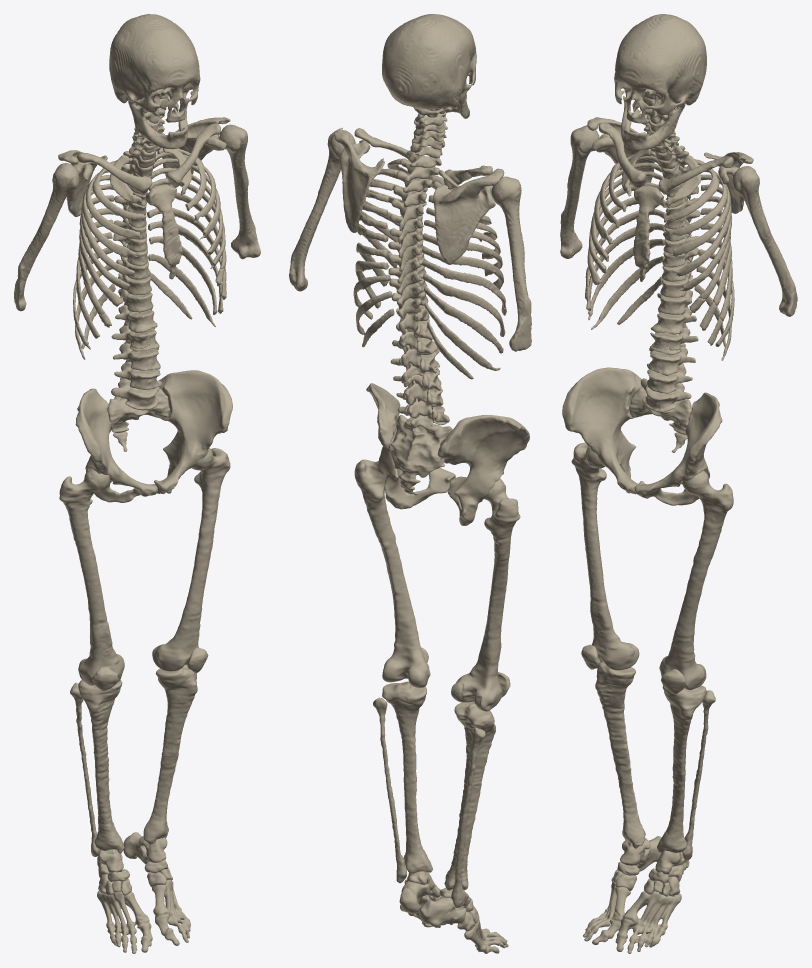
Rendered from vhf_denver_ct_adult_female.skeletal.LOD1.glb.
The picture shows the model from 3 angles, left to right: view 1: azimuth 30°, elevation 25°; view 2: azimuth 150°, elevation 25°; view 3: azimuth 330°, elevation 25°; orthographic projection. The views are drawn at different scales.
Visible parts, largest first — view 1: VHF_DENVER_CT.ADULT.FEMALE.SKELETAL.SKULL_CRANIUM_AND_MANDIB, VHF_DENVER_CT.ADULT.FEMALE.SKELETAL.HIP_BONE_OS_COXAE.L, VHF_DENVER_CT.ADULT.FEMALE.SKELETAL.FEMUR.R, VHF_DENVER_CT.ADULT.FEMALE.SKELETAL.FEMUR.L, VHF_DENVER_CT.ADULT.FEMALE.SKELETAL.TIBIA.L, VHF_DENVER_CT.ADULT.FEMALE.SKELETAL.METATARSALS_AND_PHALANGE (×2), VHF_DENVER_CT.ADULT.FEMALE.SKELETAL.HIP_BONE_OS_COXAE.R, VHF_DENVER_CT.ADULT.FEMALE.SKELETAL.TIBIA.R, VHF_DENVER_CT.ADULT.FEMALE.SKELETAL.HUMERUS.L, VHF_DENVER_CT.ADULT.FEMALE.SKELETAL.HUMERUS.R, VHF_DENVER_CT.ADULT.FEMALE.SKELETAL.STERNUM, VHF_DENVER_CT.ADULT.FEMALE.SKELETAL.VERTEBRA_L3 (+21 smaller); view 2: VHF_DENVER_CT.ADULT.FEMALE.SKELETAL.SKULL_CRANIUM_AND_MANDIB, VHF_DENVER_CT.ADULT.FEMALE.SKELETAL.HIP_BONE_OS_COXAE.R, VHF_DENVER_CT.ADULT.FEMALE.SKELETAL.FEMUR.L, VHF_DENVER_CT.ADULT.FEMALE.SKELETAL.FEMUR.R, VHF_DENVER_CT.ADULT.FEMALE.SKELETAL.SCAPULA.R, VHF_DENVER_CT.ADULT.FEMALE.SKELETAL.TIBIA.L, VHF_DENVER_CT.ADULT.FEMALE.SKELETAL.HIP_BONE_OS_COXAE.L, VHF_DENVER_CT.ADULT.FEMALE.SKELETAL.TIBIA.R, VHF_DENVER_CT.ADULT.FEMALE.SKELETAL.HUMERUS.R, VHF_DENVER_CT.ADULT.FEMALE.SKELETAL.SACRUM, VHF_DENVER_CT.ADULT.FEMALE.SKELETAL.SCAPULA.L, VHF_DENVER_CT.ADULT.FEMALE.SKELETAL.HUMERUS.L (+16 smaller); view 3: VHF_DENVER_CT.ADULT.FEMALE.SKELETAL.SKULL_CRANIUM_AND_MANDIB, VHF_DENVER_CT.ADULT.FEMALE.SKELETAL.HIP_BONE_OS_COXAE.R, VHF_DENVER_CT.ADULT.FEMALE.SKELETAL.FEMUR.L, VHF_DENVER_CT.ADULT.FEMALE.SKELETAL.FEMUR.R, VHF_DENVER_CT.ADULT.FEMALE.SKELETAL.TIBIA.R, VHF_DENVER_CT.ADULT.FEMALE.SKELETAL.METATARSALS_AND_PHALANGE (×2), VHF_DENVER_CT.ADULT.FEMALE.SKELETAL.HIP_BONE_OS_COXAE.L, VHF_DENVER_CT.ADULT.FEMALE.SKELETAL.TIBIA.L, VHF_DENVER_CT.ADULT.FEMALE.SKELETAL.HUMERUS.L, VHF_DENVER_CT.ADULT.FEMALE.SKELETAL.HUMERUS.R, VHF_DENVER_CT.ADULT.FEMALE.SKELETAL.STERNUM, VHF_DENVER_CT.ADULT.FEMALE.SKELETAL.VERTEBRA_L3 (+23 smaller).
Part boxes in pixels (x1,y1,x2,y2): VHF_DENVER_CT.ADULT.FEMALE.SKELETAL.SKULL_CRANIUM_AND_MANDIB: (109,14,200,149); VHF_DENVER_CT.ADULT.FEMALE.SKELETAL.HIP_BONE_OS_COXAE.L: (154,370,232,494); VHF_DENVER_CT.ADULT.FEMALE.SKELETAL.FEMUR.R: (59,468,124,685); VHF_DENVER_CT.ADULT.FEMALE.SKELETAL.FEMUR.L: (152,447,230,671); VHF_DENVER_CT.ADULT.FEMALE.SKELETAL.TIBIA.L: (143,665,197,844); VHF_DENVER_CT.ADULT.FEMALE.SKELETAL.METATARSALS_AND_PHALANGE (×2): (97,879,190,953); VHF_DENVER_CT.ADULT.FEMALE.SKELETAL.HIP_BONE_OS_COXAE.R: (75,388,157,502); VHF_DENVER_CT.ADULT.FEMALE.SKELETAL.TIBIA.R: (78,680,124,853); VHF_DENVER_CT.ADULT.FEMALE.SKELETAL.HUMERUS.L: (219,124,260,259); VHF_DENVER_CT.ADULT.FEMALE.SKELETAL.HUMERUS.R: (14,163,79,311); VHF_DENVER_CT.ADULT.FEMALE.SKELETAL.STERNUM: (145,184,182,279); VHF_DENVER_CT.ADULT.FEMALE.SKELETAL.VERTEBRA_L3: (111,325,160,370); VHF_DENVER_CT.ADULT.FEMALE.SKELETAL.SKULL_CRANIUM_AND_MANDIB: (382,14,476,118); VHF_DENVER_CT.ADULT.FEMALE.SKELETAL.HIP_BONE_OS_COXAE.R: (437,415,529,525); VHF_DENVER_CT.ADULT.FEMALE.SKELETAL.FEMUR.L: (354,459,430,687); VHF_DENVER_CT.ADULT.FEMALE.SKELETAL.FEMUR.R: (451,478,520,711); VHF_DENVER_CT.ADULT.FEMALE.SKELETAL.SCAPULA.R: (433,168,504,264); VHF_DENVER_CT.ADULT.FEMALE.SKELETAL.TIBIA.L: (382,681,432,873); VHF_DENVER_CT.ADULT.FEMALE.SKELETAL.HIP_BONE_OS_COXAE.L: (366,383,455,509); VHF_DENVER_CT.ADULT.FEMALE.SKELETAL.TIBIA.R: (444,701,495,890); VHF_DENVER_CT.ADULT.FEMALE.SKELETAL.HUMERUS.R: (491,176,531,351); VHF_DENVER_CT.ADULT.FEMALE.SKELETAL.SACRUM: (390,415,452,488); VHF_DENVER_CT.ADULT.FEMALE.SKELETAL.SCAPULA.L: (334,127,384,232); VHF_DENVER_CT.ADULT.FEMALE.SKELETAL.HUMERUS.L: (289,130,355,291); VHF_DENVER_CT.ADULT.FEMALE.SKELETAL.SKULL_CRANIUM_AND_MANDIB: (614,14,706,149); VHF_DENVER_CT.ADULT.FEMALE.SKELETAL.HIP_BONE_OS_COXAE.R: (562,367,643,494); VHF_DENVER_CT.ADULT.FEMALE.SKELETAL.FEMUR.L: (659,470,733,689); VHF_DENVER_CT.ADULT.FEMALE.SKELETAL.FEMUR.R: (571,442,639,670); VHF_DENVER_CT.ADULT.FEMALE.SKELETAL.TIBIA.R: (595,662,645,848); VHF_DENVER_CT.ADULT.FEMALE.SKELETAL.METATARSALS_AND_PHALANGE (×2): (583,881,681,953); VHF_DENVER_CT.ADULT.FEMALE.SKELETAL.HIP_BONE_OS_COXAE.L: (634,392,722,505); VHF_DENVER_CT.ADULT.FEMALE.SKELETAL.TIBIA.L: (657,685,706,852); VHF_DENVER_CT.ADULT.FEMALE.SKELETAL.HUMERUS.L: (732,166,797,316); VHF_DENVER_CT.ADULT.FEMALE.SKELETAL.HUMERUS.R: (560,125,599,258); VHF_DENVER_CT.ADULT.FEMALE.SKELETAL.STERNUM: (633,185,663,281); VHF_DENVER_CT.ADULT.FEMALE.SKELETAL.VERTEBRA_L3: (649,327,698,375).
Size of the model in its own units: 0.4671 by 1.71 by 0.2194.
